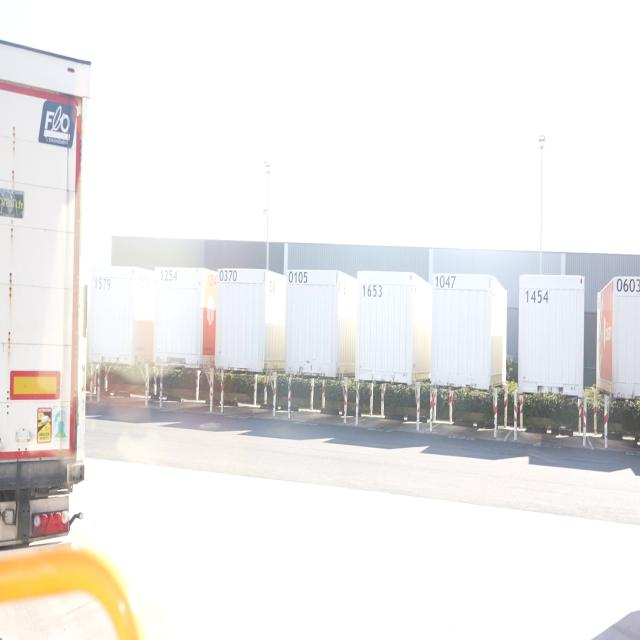Code: (518, 289, 553, 309), (359, 280, 387, 303), (156, 262, 180, 288), (214, 262, 238, 286), (432, 270, 458, 292), (90, 272, 114, 294), (284, 266, 311, 285)
